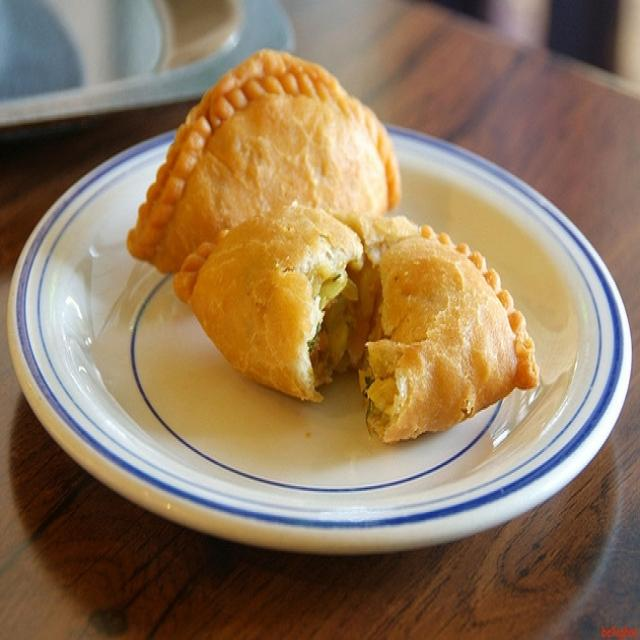炸货点心: (71, 18, 603, 562)
